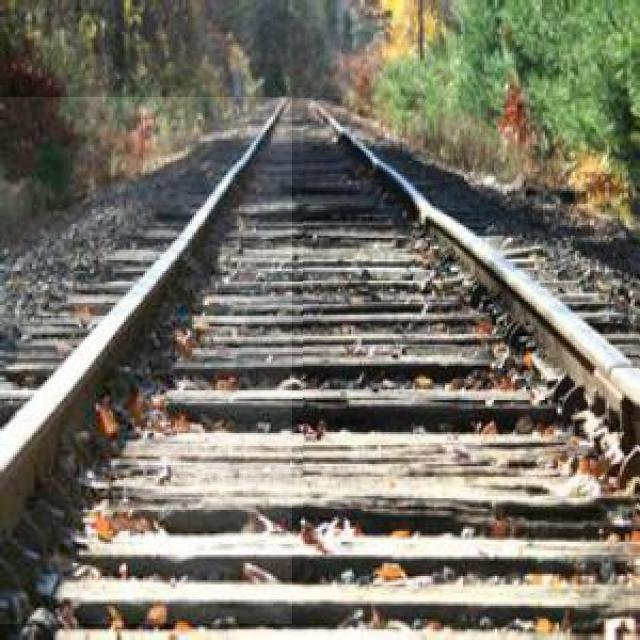rail: (1, 98, 293, 625), (304, 102, 640, 520)
